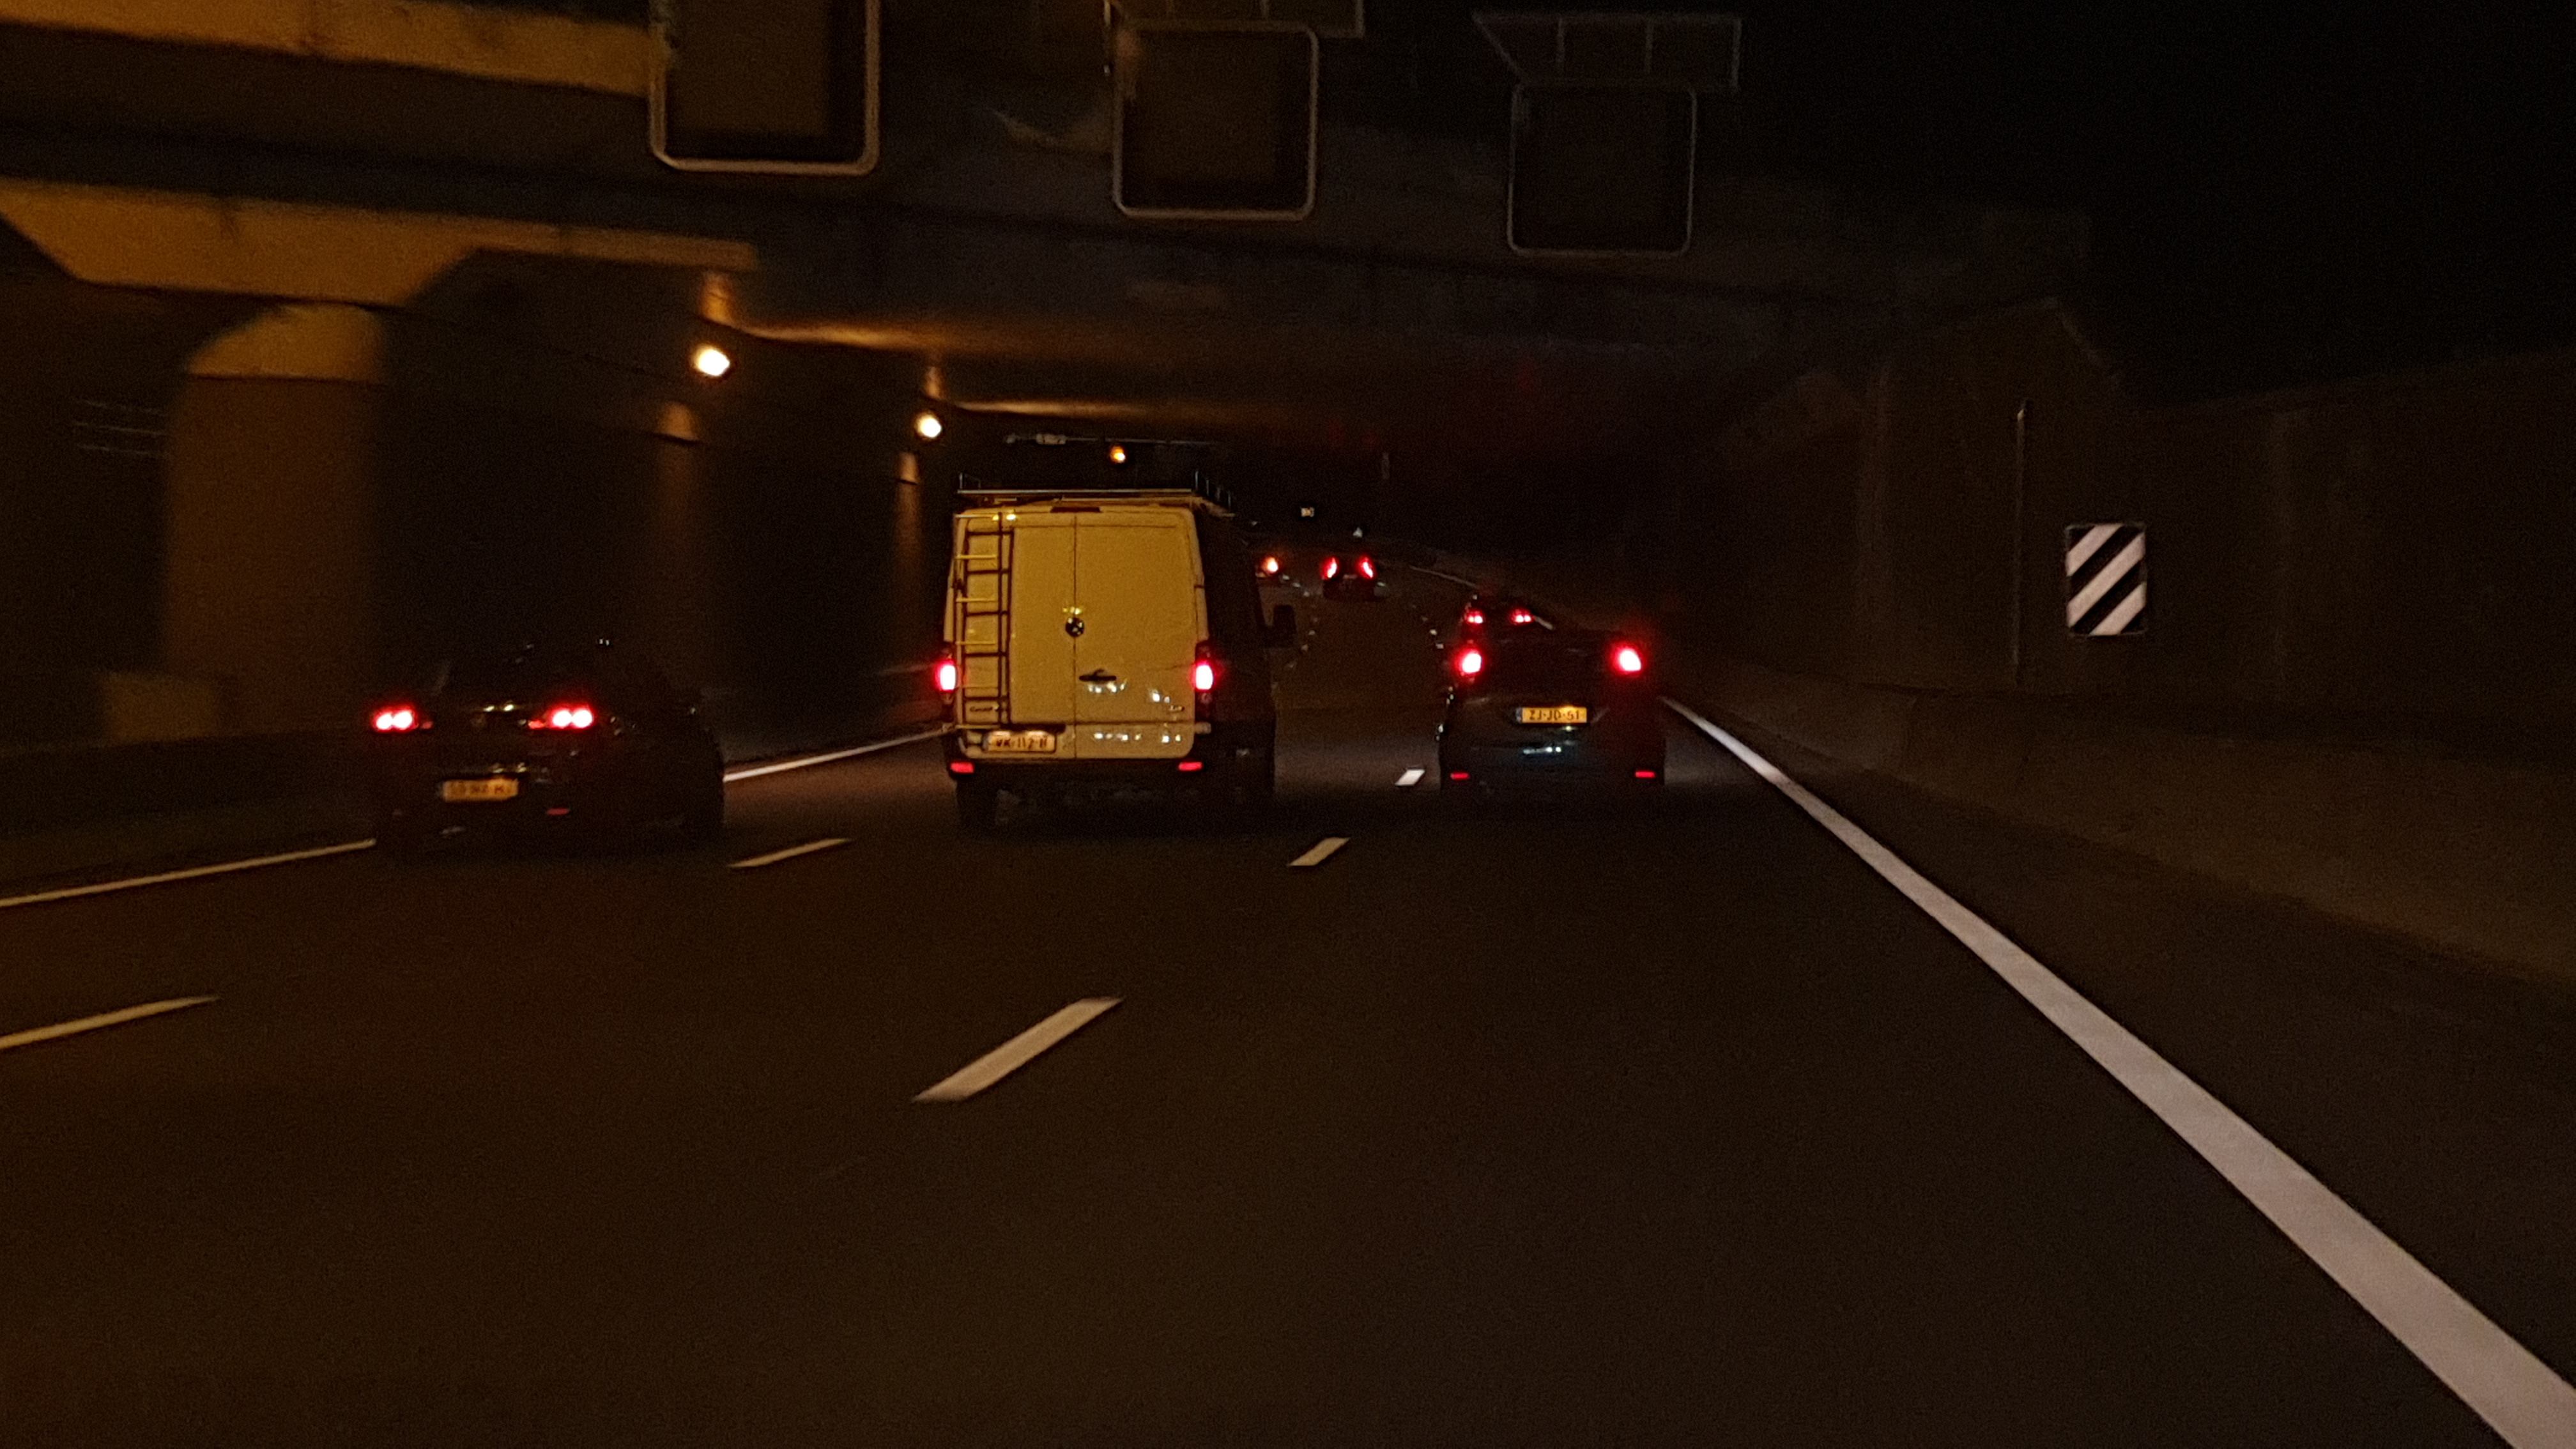car: (931, 478, 1279, 828), (372, 648, 729, 849), (1433, 628, 1667, 805)
